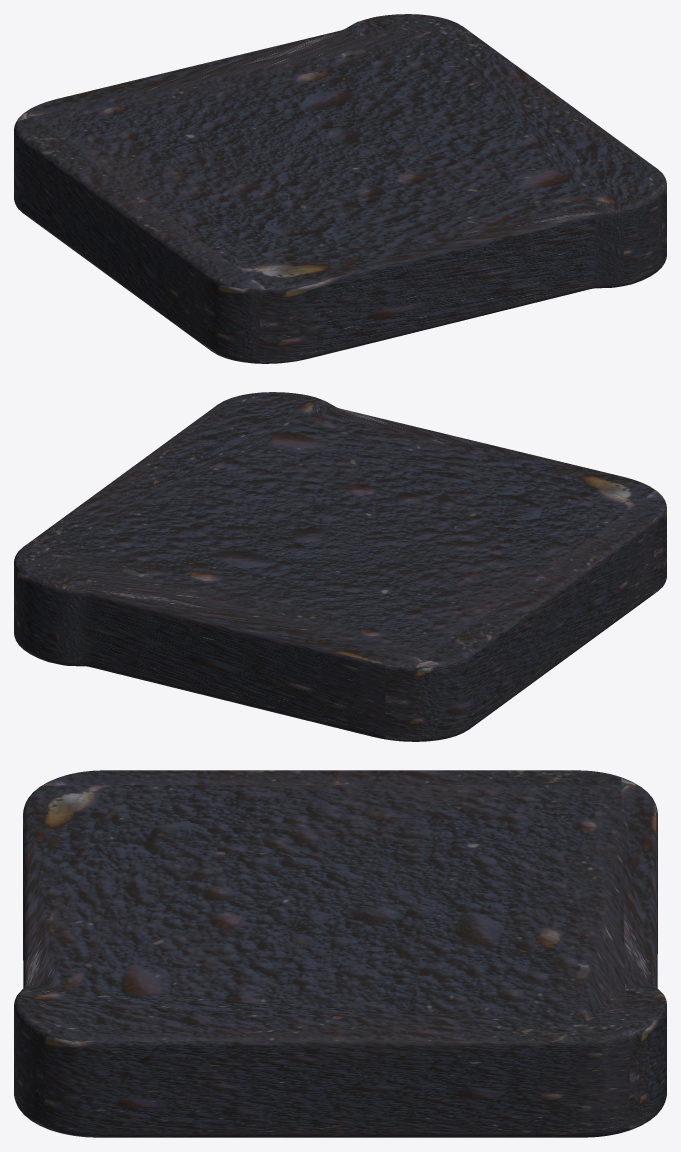
File: 焦げトースト.fbx
The picture shows the model from 3 angles, top to bottom: view 1: azimuth 30°, elevation 25°; view 2: azimuth 150°, elevation 25°; view 3: azimuth 270°, elevation 25°; orthographic projection. The views are drawn at different scales.
Visible parts, largest first — view 1: Cube.004; view 2: Cube.004; view 3: Cube.004.
Boxes of the visible parts, box(x1,y1,x2,y2) form: Cube.004: box(14, 14, 666, 363); Cube.004: box(14, 392, 666, 741); Cube.004: box(14, 770, 666, 1137).
Size of the model in its own units: 407 by 69.6 by 411.
